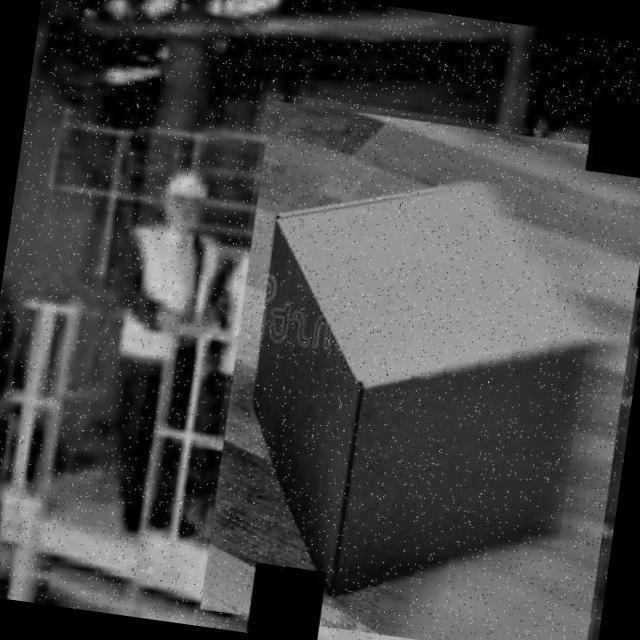box: (193, 91, 640, 640)
